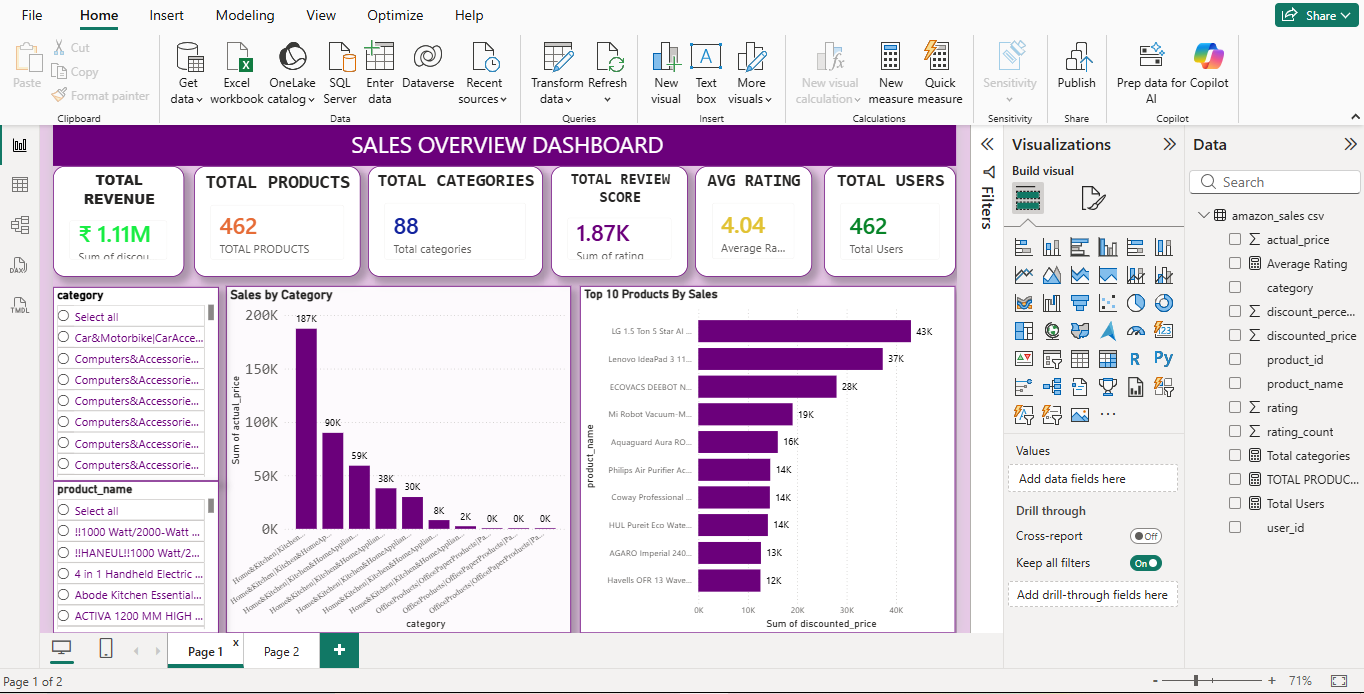

The page's visual inventory and layout, read from the dashboard file:
{"tool":"powerbi","page":{"name":"Page 1","canvas":[1280,720],"ordinal":0},"visuals":[{"type":"cardVisual","title":"TOTAL REVENUE","fields":{"Data":["Sum(amazon_sales csv.discounted_price)"]},"box":[0,57.6,185.8,157],"z":0},{"type":"textbox","box":[0,0,1280.2,57.6],"z":1000},{"type":"cardVisual","title":"TOTAL PRODUCTS","fields":{"Data":["amazon_sales csv.TOTAL PRODUCTS"]},"box":[200.2,57.6,236.2,157],"z":2000},{"type":"cardVisual","title":"TOTAL CATEGORIES","fields":{"Data":["amazon_sales csv.Total categories"]},"box":[446.4,57.6,247.7,157],"z":3000},{"type":"cardVisual","title":"TOTAL REVIEW SCORE","fields":{"Data":["Sum(amazon_sales csv.rating)"]},"box":[705.6,57.6,194.4,157],"z":4000},{"type":"cardVisual","title":"TOTAL USERS","fields":{"Data":["amazon_sales csv.Total Users"]},"box":[1093,57.6,187.2,157],"z":5000},{"type":"cardVisual","title":"AVG  RATING","fields":{"Data":["amazon_sales csv.Avg Rating"]},"box":[910.1,57.6,165.6,157],"z":6000},{"type":"clusteredColumnChart","title":"Sales by Category","fields":{"Category":["amazon_sales csv.category"],"Y":["Sum(amazon_sales csv.actual_price)"]},"box":[245.2,228.5,488.8,492.2],"z":7000},{"type":"clusteredBarChart","title":"Top 10 Products By Sales","fields":{"Category":["amazon_sales csv.product_name"],"Y":["Sum(amazon_sales csv.discounted_price)"]},"box":[747.5,228.5,532.5,492.2],"z":8000},{"type":"listSlicer","fields":{"Values":["amazon_sales csv.category"]},"box":[0,229,234.7,275],"z":9000},{"type":"listSlicer","fields":{"Values":["amazon_sales csv.product_name"]},"box":[0,504,234.7,216],"z":10000}]}

Visuals, with their boxes on the page's 1280x720 design canvas (x1, y1, x2, y2). These are canvas units, not pixel positions in the 1364x694 screenshot, which may show the page scaled, cropped or inside an application window:
"TOTAL REVENUE" cardVisual: [left=0, top=58, right=186, bottom=215]
textbox: [left=0, top=0, right=1280, bottom=58]
"TOTAL PRODUCTS" cardVisual: [left=200, top=58, right=436, bottom=215]
"TOTAL CATEGORIES" cardVisual: [left=446, top=58, right=694, bottom=215]
"TOTAL REVIEW SCORE" cardVisual: [left=706, top=58, right=900, bottom=215]
"TOTAL USERS" cardVisual: [left=1093, top=58, right=1280, bottom=215]
"AVG  RATING" cardVisual: [left=910, top=58, right=1076, bottom=215]
"Sales by Category" clusteredColumnChart: [left=245, top=228, right=734, bottom=721]
"Top 10 Products By Sales" clusteredBarChart: [left=748, top=228, right=1280, bottom=721]
listSlicer - amazon_sales csv.category: [left=0, top=229, right=235, bottom=504]
listSlicer - amazon_sales csv.product_name: [left=0, top=504, right=235, bottom=720]
